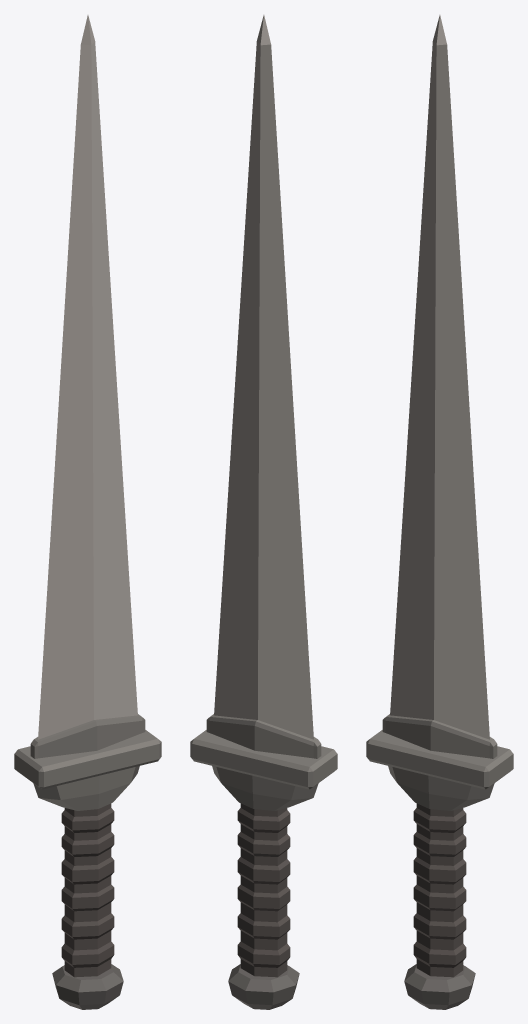
The model's file is SM_pwe_gauls_sword_01.fbx.
The picture shows the model from 3 angles, left to right: view 1: azimuth 30°, elevation 25°; view 2: azimuth 150°, elevation 25°; view 3: azimuth 330°, elevation 25°; orthographic projection.
Visible parts, largest first — view 1: SM_pwe_gauls_sword_01; view 2: SM_pwe_gauls_sword_01; view 3: SM_pwe_gauls_sword_01.
Part boxes in pixels (x1,y1,x2,y2): SM_pwe_gauls_sword_01: (14, 15, 161, 1009); SM_pwe_gauls_sword_01: (190, 15, 337, 1009); SM_pwe_gauls_sword_01: (366, 15, 513, 1009).
Bounding box in the file's own units: 10.27 × 78.85 × 5.36.
